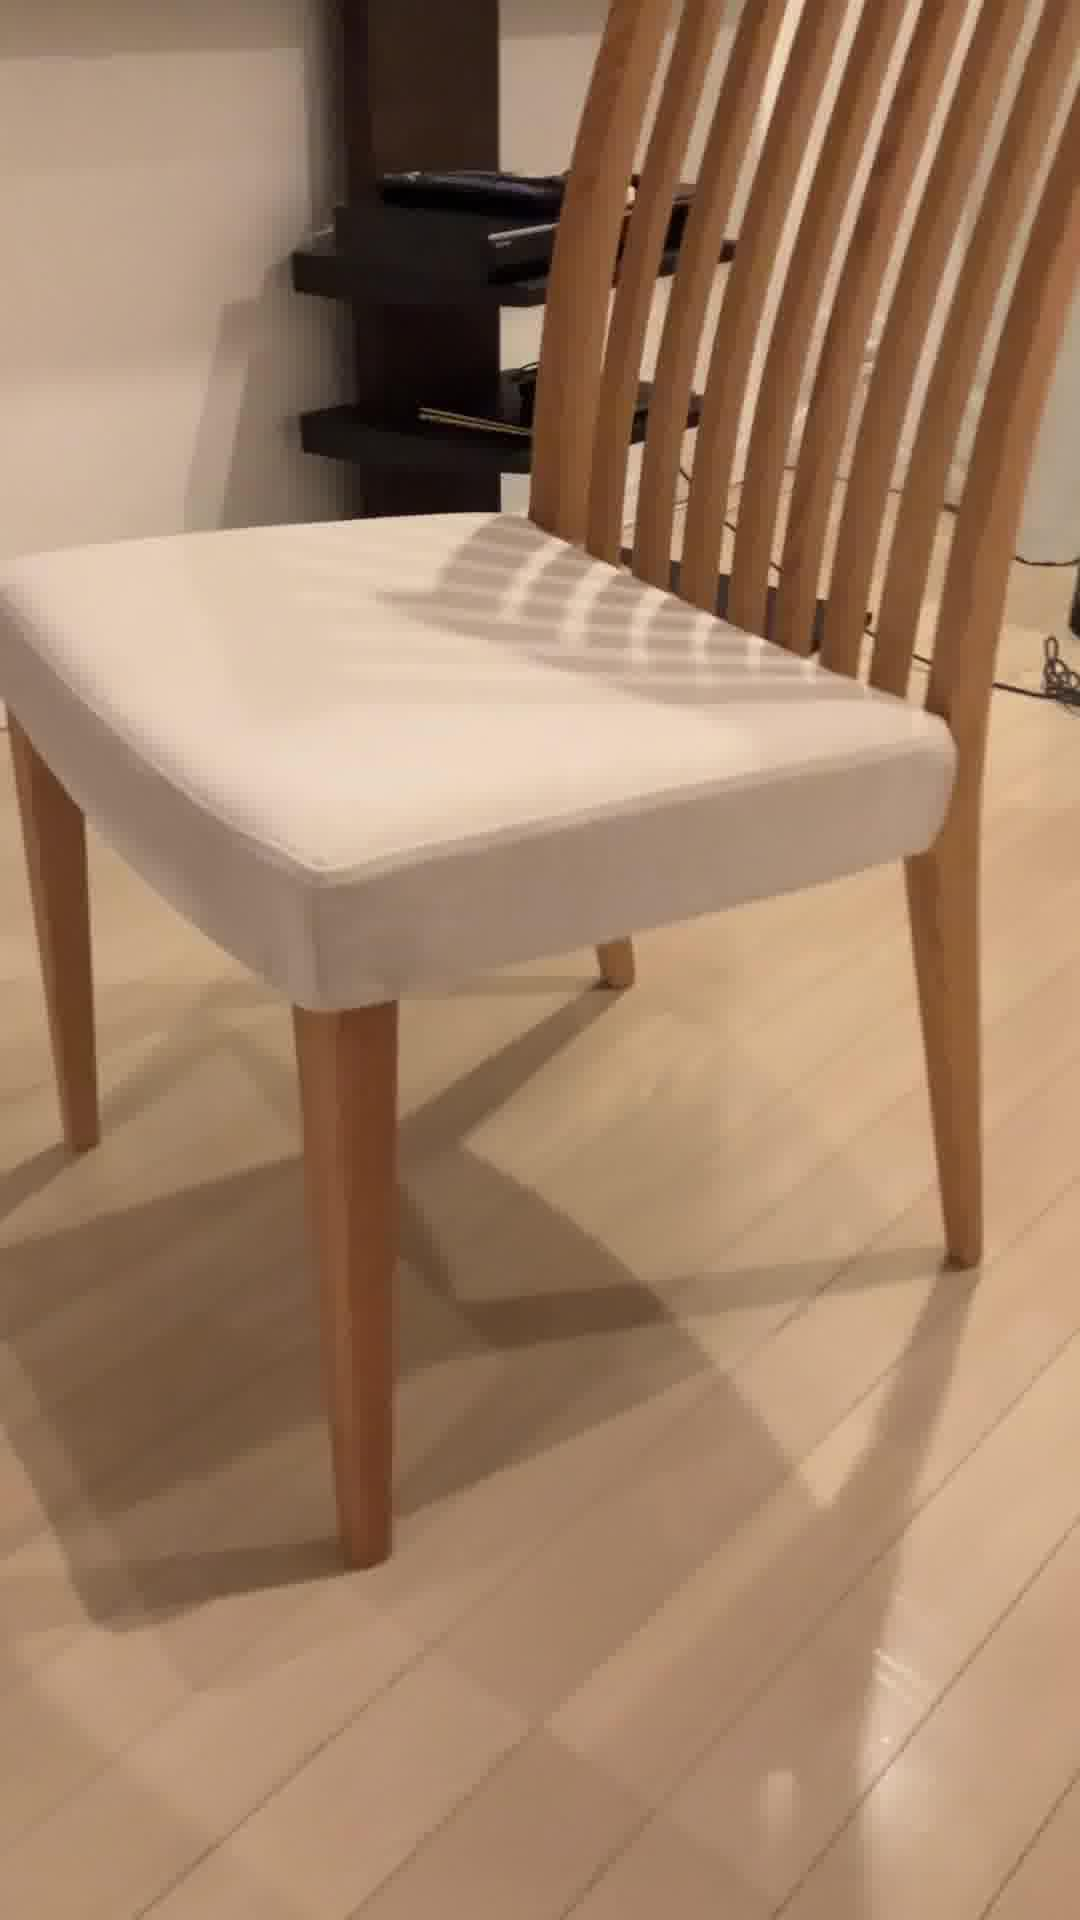takumikan-chair: (0, 0, 1080, 1577)
